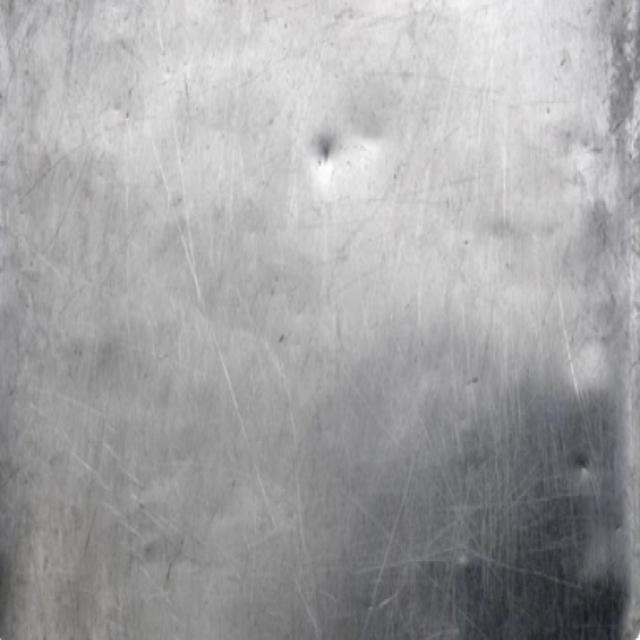dents: (309, 128, 350, 212), (560, 440, 606, 504)
